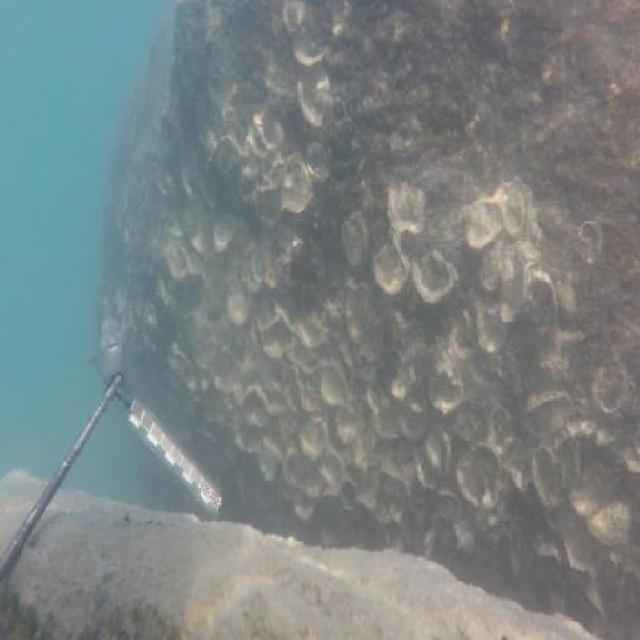acanthopagrus_palmaris: (92, 283, 125, 391)
